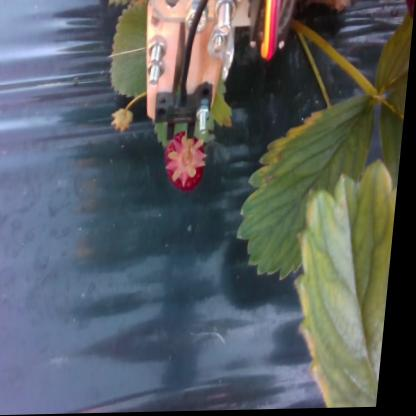ripe: (166, 137, 212, 190)
